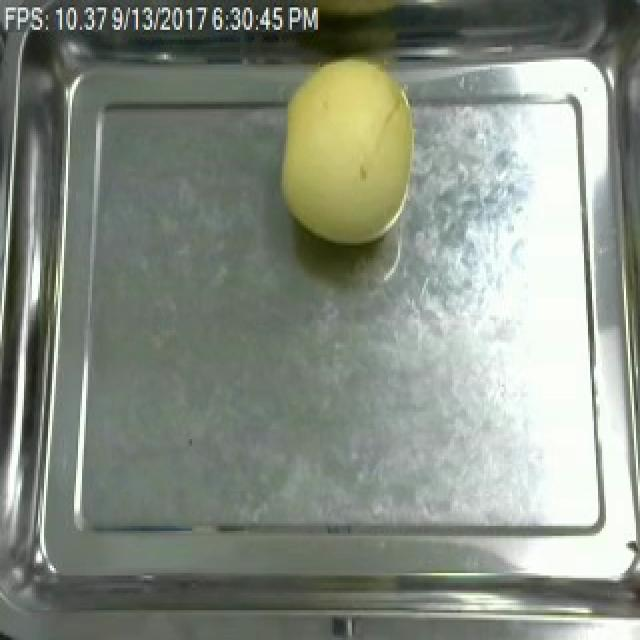Fruit: (268, 45, 426, 253)
